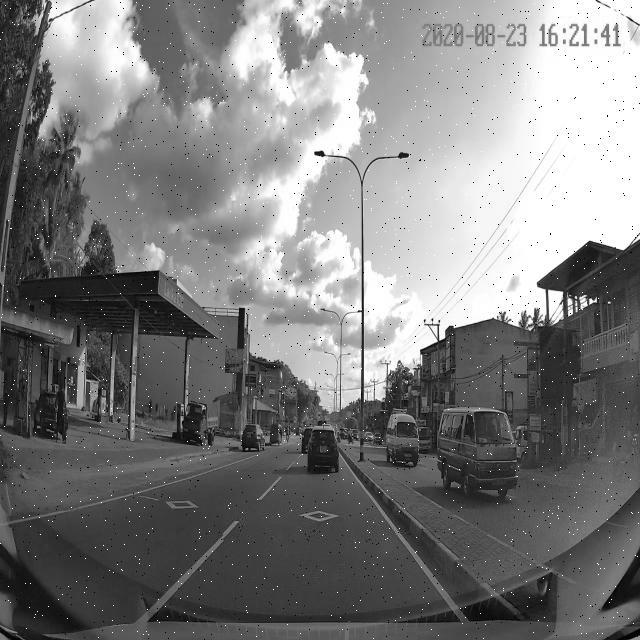diamond: (224, 510, 406, 540)
